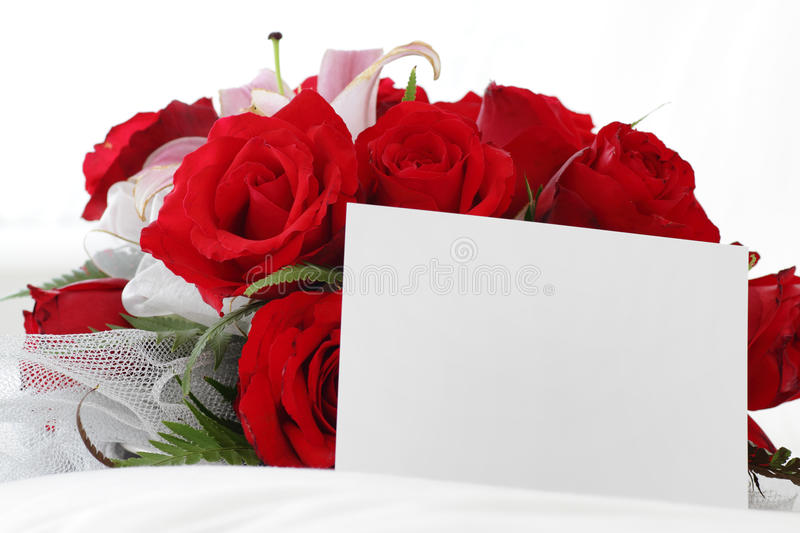RedRose: (155, 76, 347, 291), (374, 98, 531, 226), (557, 111, 695, 248), (211, 308, 338, 453), (489, 63, 611, 186), (713, 234, 800, 397), (48, 270, 175, 375), (102, 89, 183, 203)
